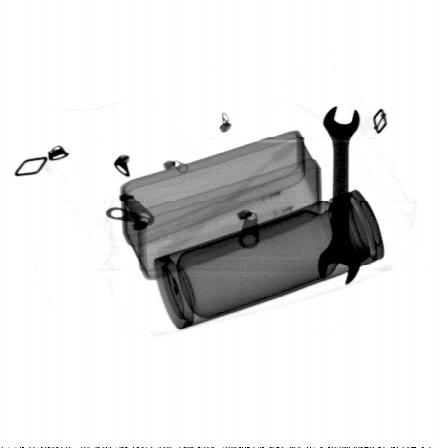Wrench: (316, 104, 362, 287)
